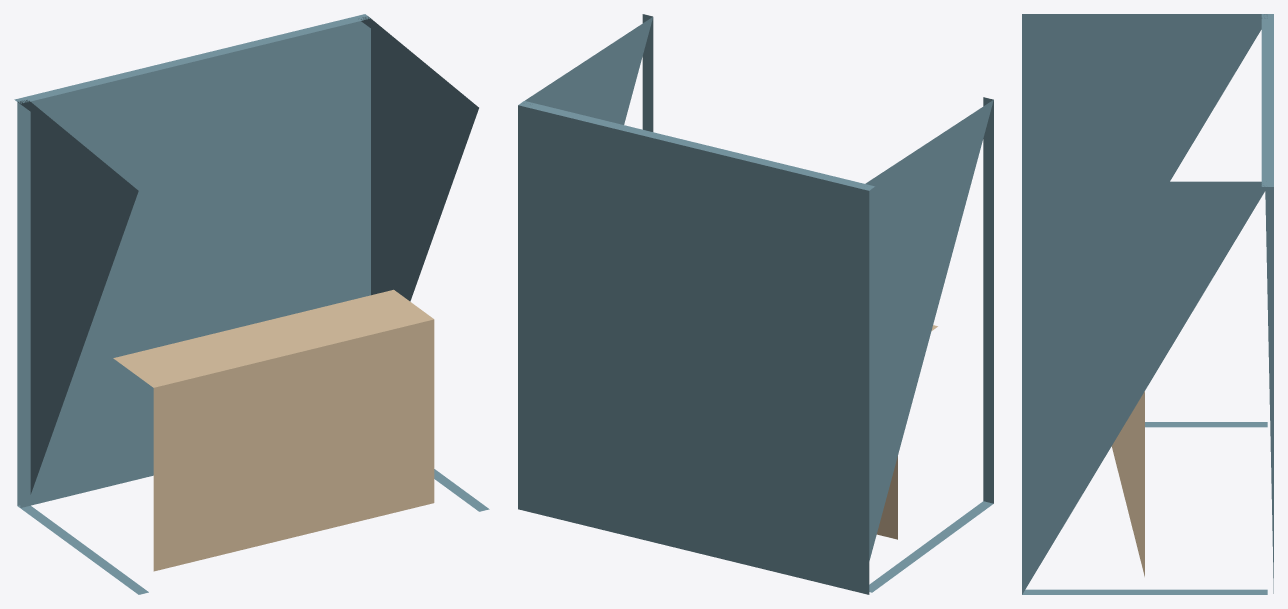
The model's file is shell-booth.glb.
3 views of the same model, side by side, from view 1: azimuth 30°, elevation 25°; view 2: azimuth 150°, elevation 25°; view 3: azimuth 270°, elevation 25° (orthographic).
Bounding box in the file's own units: 2 × 2.2 × 1.23.
